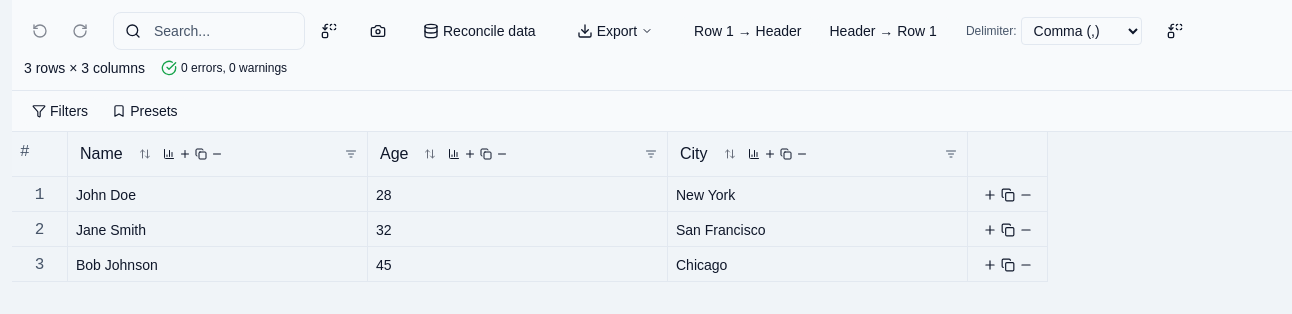
Test: CSV Copy Down (Fill Down) context menu › shows Copy down with row count when right-clicking a non-last cell
Right-click the text "John Doe" at (106, 194), box top-left (76, 186), bottom-right (136, 202)
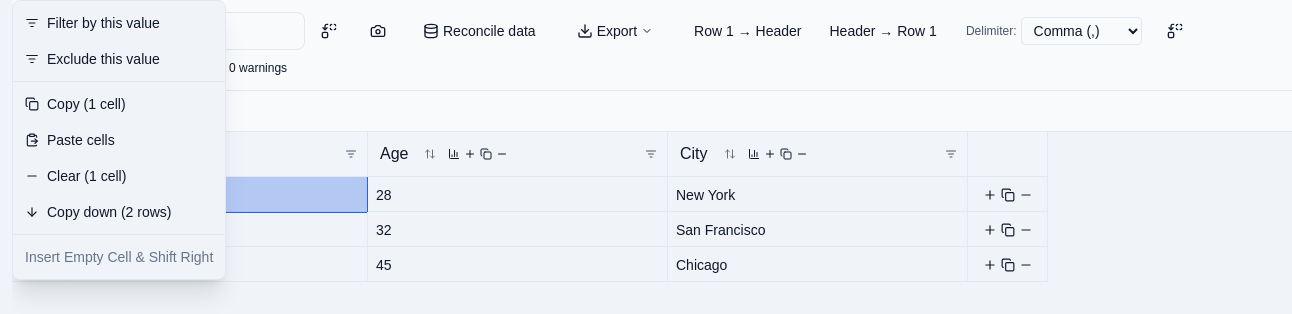
Expected: the button with test id "fill-down-button" reads "Copy down (2 rows)", top-left (13, 194), bottom-right (225, 230)
Expected: the button with test id "fill-down-button" is enabled, top-left (13, 194), bottom-right (225, 230)
